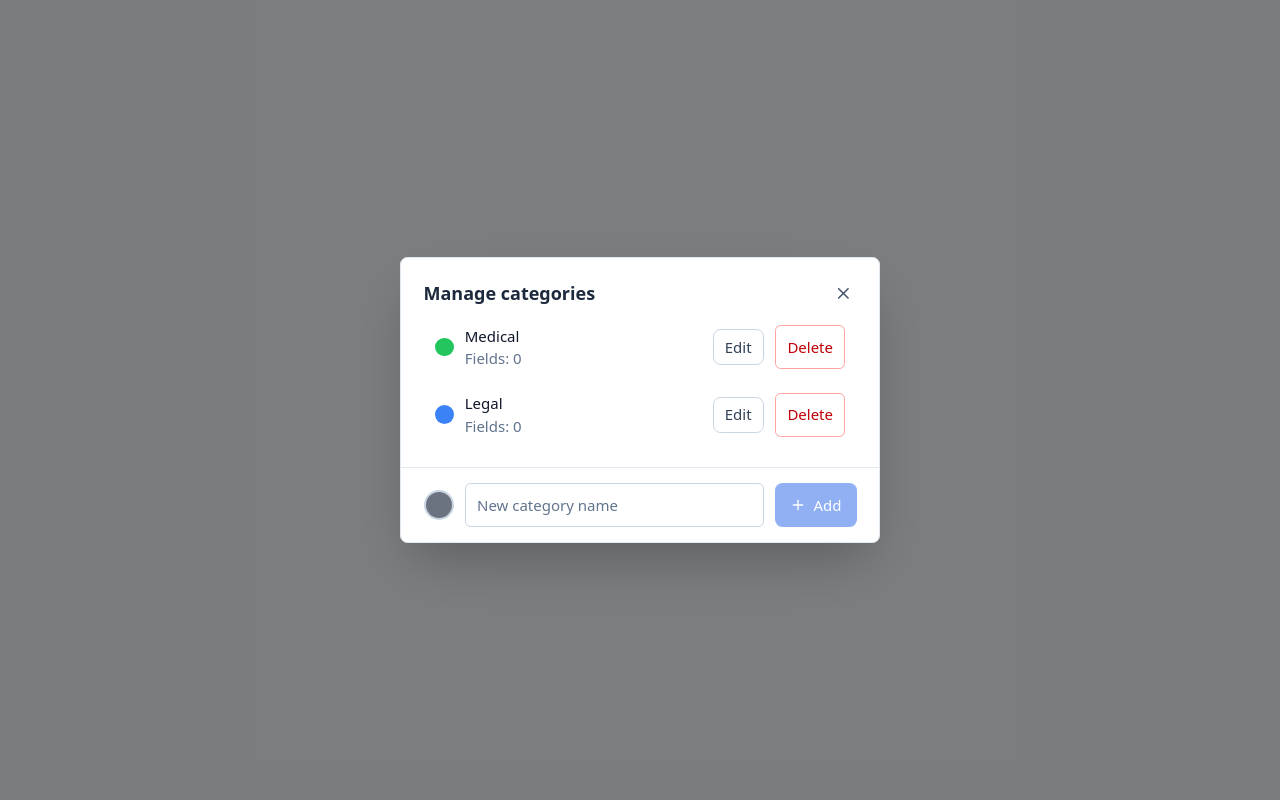
Scenario: CategoryManager › shows delete confirmation when delete button clicked
Each category row has a Delete text button, named after the category
Click the button "Delete " in the row of "Medical". click: x=810, y=347
box: [775,325,845,369]
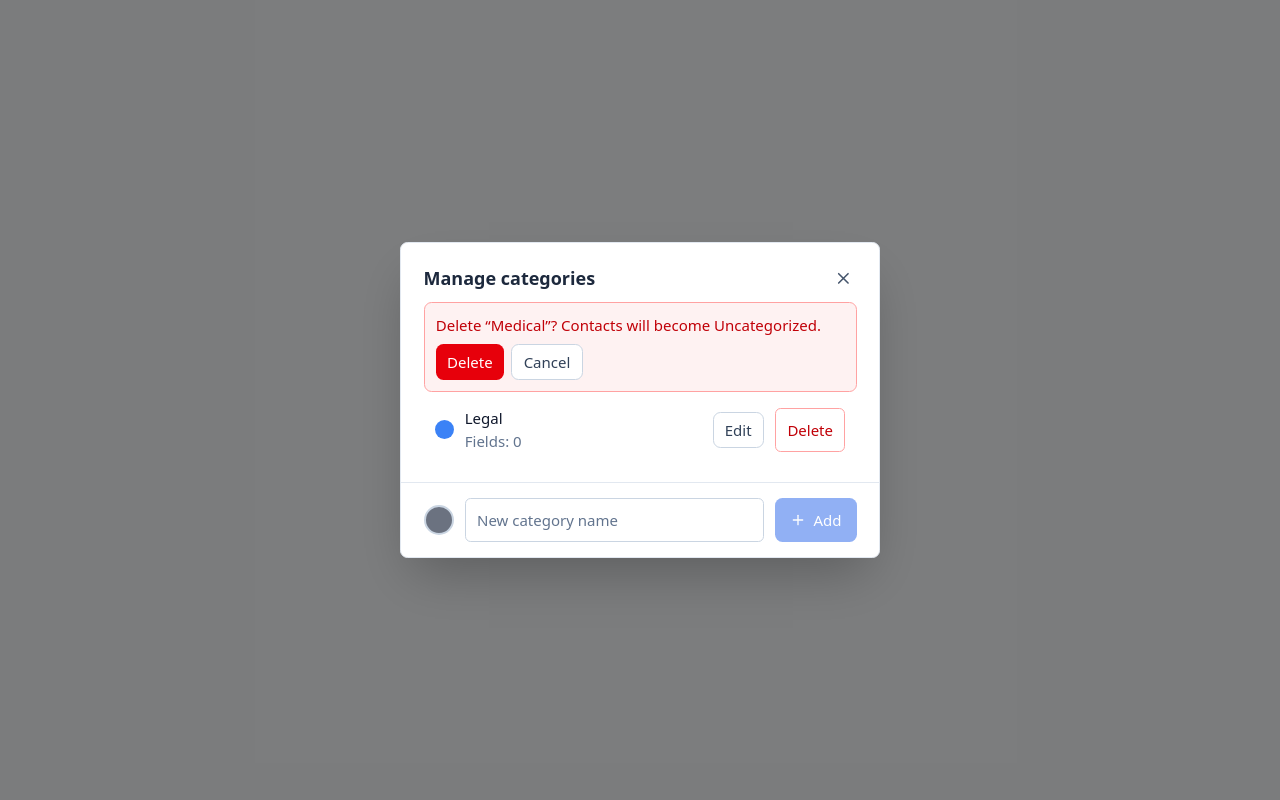
Check: the text "Delete “Medical”? Contacts will become Uncategorized." is shown, box [436,314,844,336]
